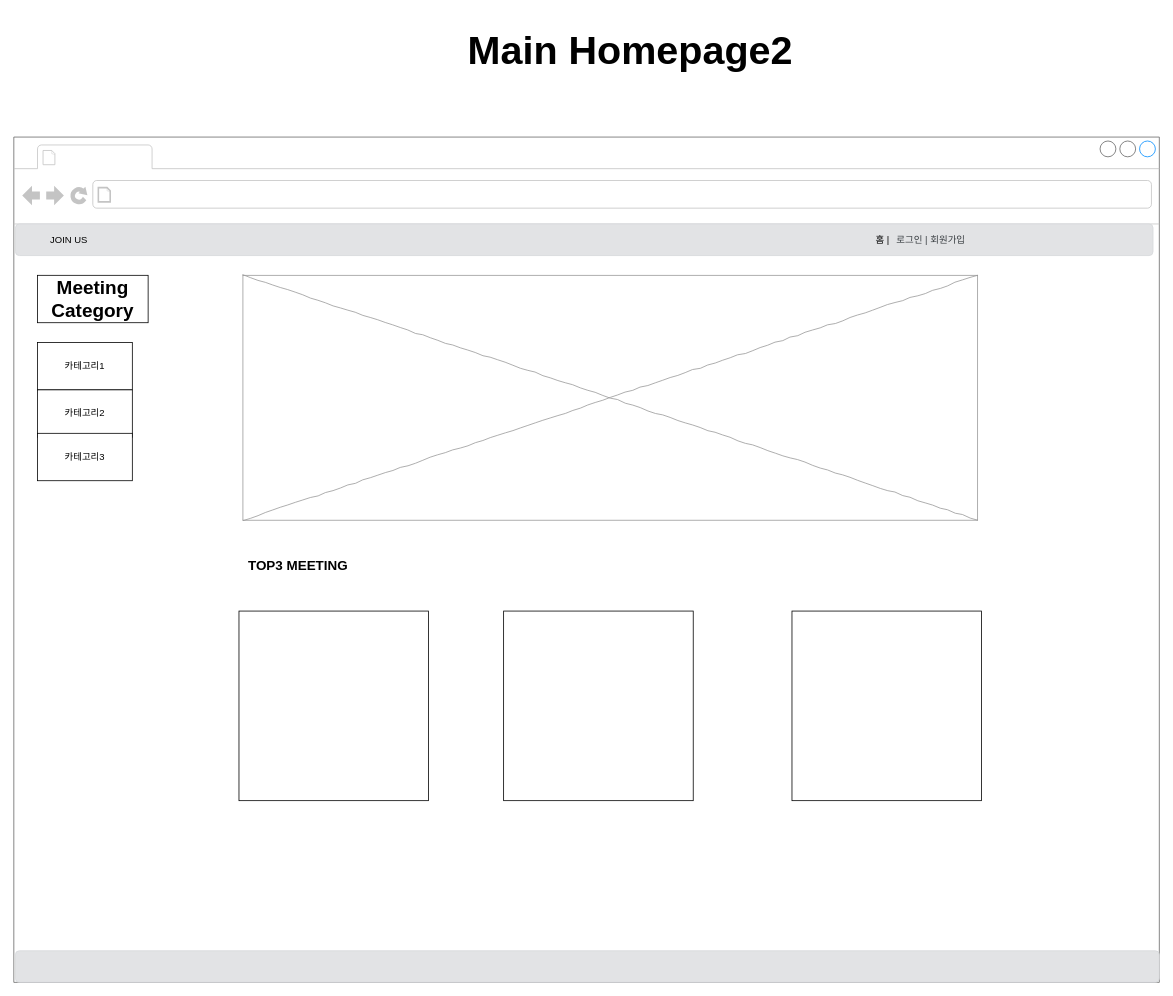
The diagram is 1173 pixels wide and 996 high, and some of its shapes have lost their labels. The box of each missing label's shape, as (x1, y1, x2, y2) in pixels:
https://www.mywebsite.com: (116, 184, 314, 205)
My WebSite: (60, 146, 148, 167)
